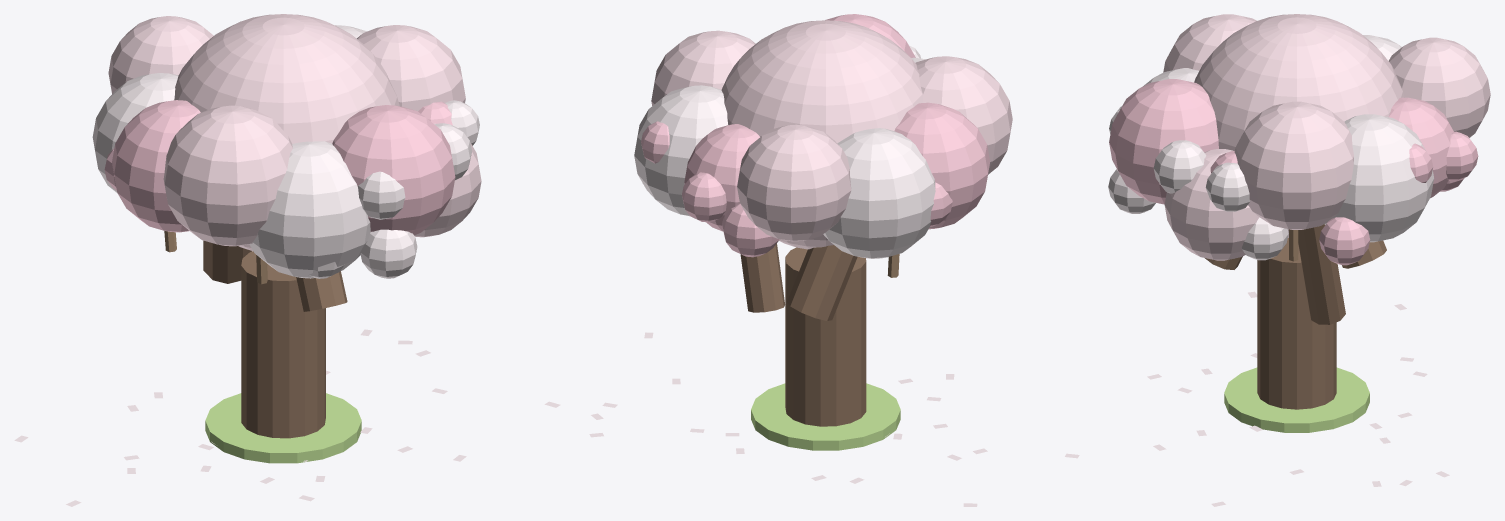
The model's file is sakura_v2.glb.
3 views of the same model, side by side, from view 1: azimuth 30°, elevation 25°; view 2: azimuth 150°, elevation 25°; view 3: azimuth 270°, elevation 25° (orthographic). The views are drawn at different scales.
Parts seen in each view (by area): view 1: sakura_v2; view 2: sakura_v2; view 3: sakura_v2.
Part boxes in pixels (x1,y1,x2,y2): sakura_v2: (14,14,560,506); sakura_v2: (589,14,1079,506); sakura_v2: (1108,14,1490,506).
Bounding box in the file's own units: 3.84 × 3.15 × 2.89.
